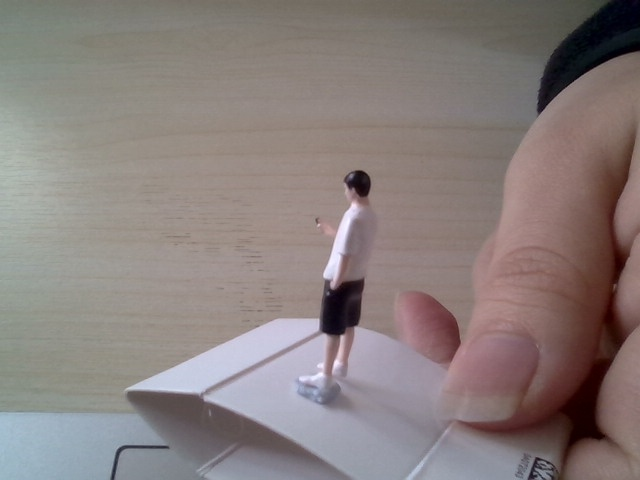walk: (287, 158, 386, 401)
